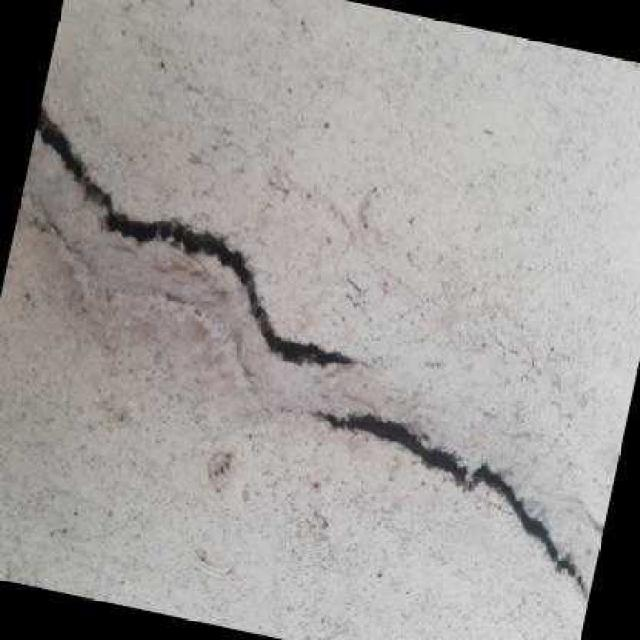D00: (32, 97, 352, 374), (315, 404, 591, 601)
